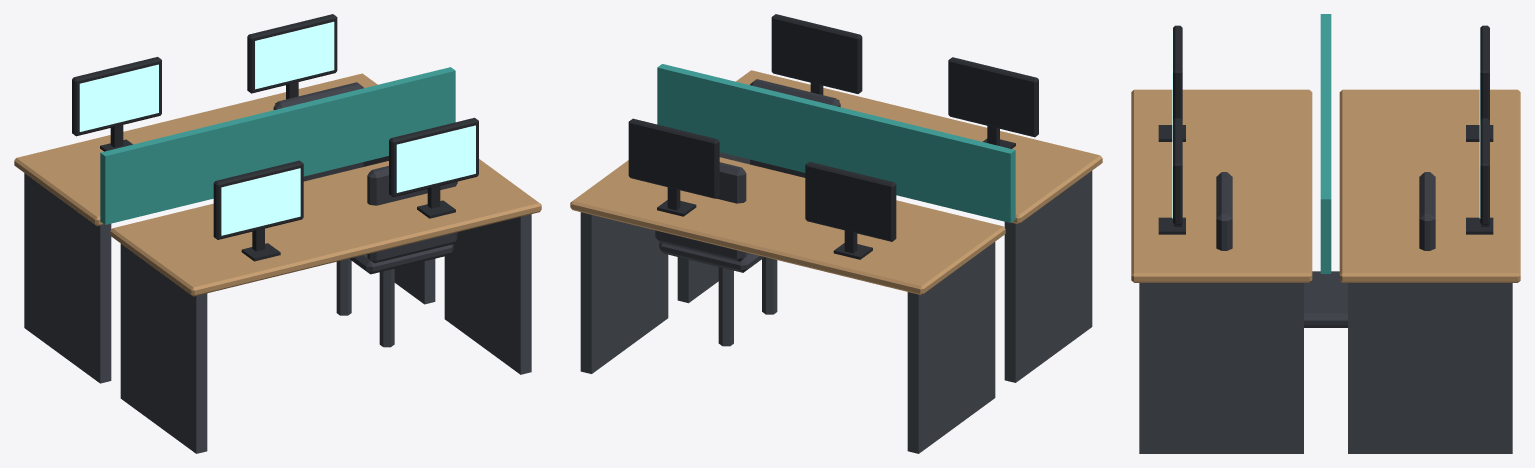
File: desk_pair.glb
3 views of the same model, side by side, from view 1: azimuth 30°, elevation 25°; view 2: azimuth 150°, elevation 25°; view 3: azimuth 270°, elevation 25° (orthographic). The views are drawn at different scales.
Parts seen in each view (by area): view 1: desk_pair_mesh; view 2: desk_pair_mesh; view 3: desk_pair_mesh.
Part boxes in pixels (box(x1,y1,x2,y2)): desk_pair_mesh: box(14, 14, 541, 453); desk_pair_mesh: box(570, 14, 1102, 453); desk_pair_mesh: box(1131, 14, 1520, 453).
Bounding box in the file's own units: 1.6 × 1.09 × 1.42.
